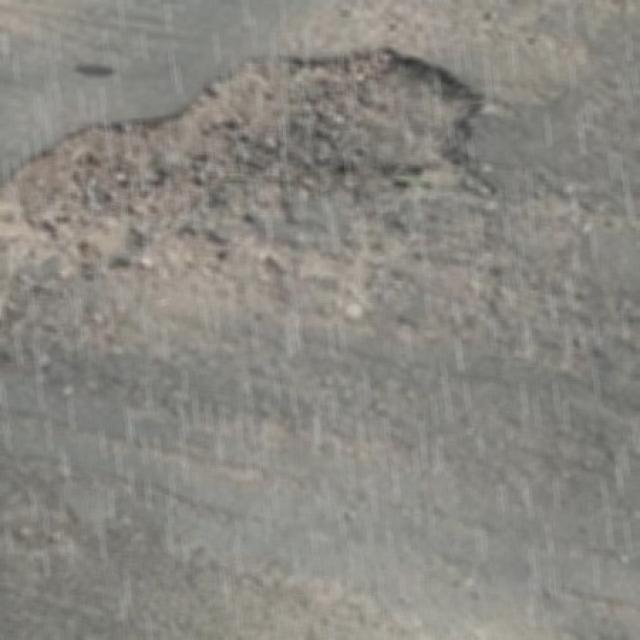road-pothole: (0, 38, 509, 260)
